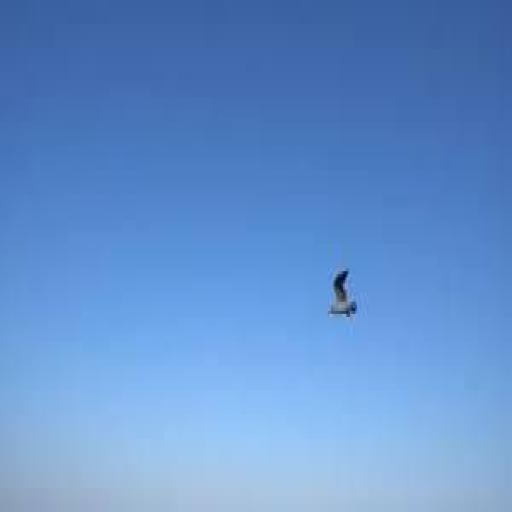birds: (327, 268, 359, 323)
